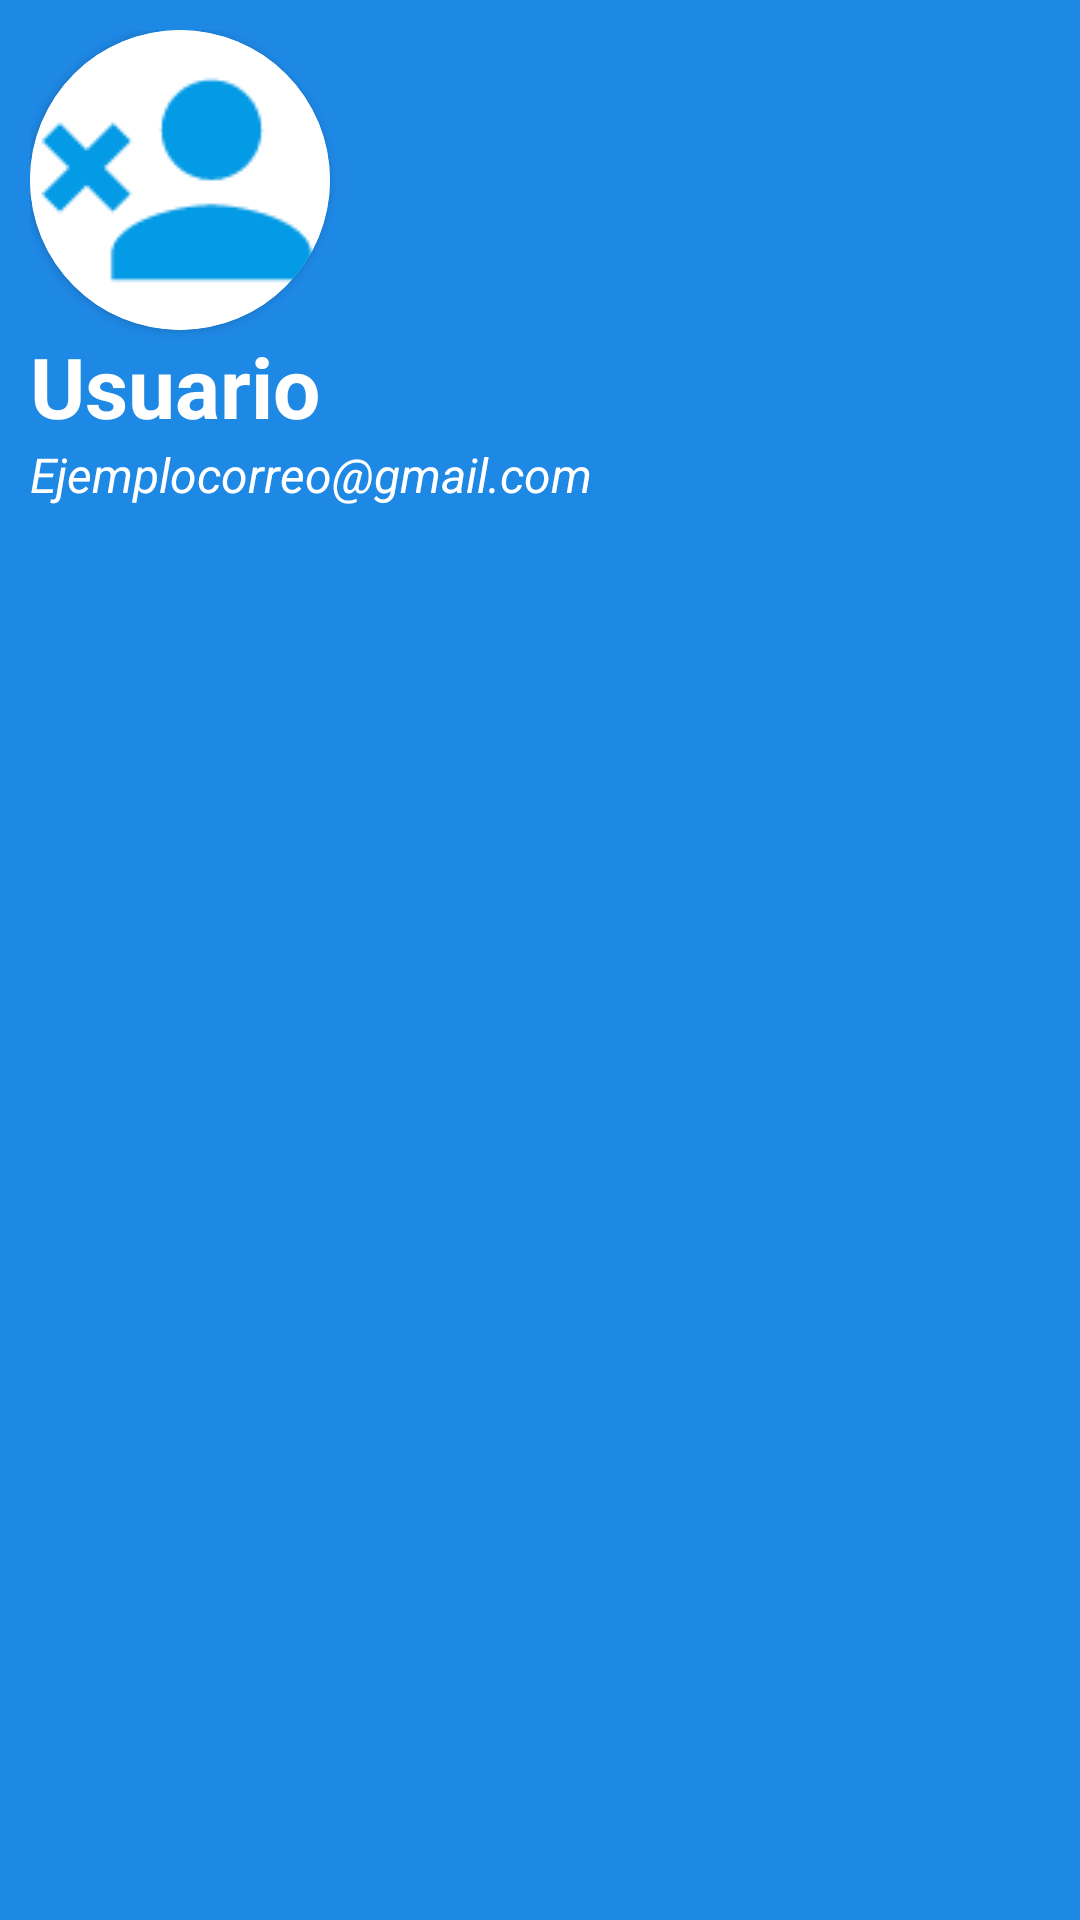

Named icons in this screenshot (1080x1920) and their centers, (x,y):
no logged: (180,180)
